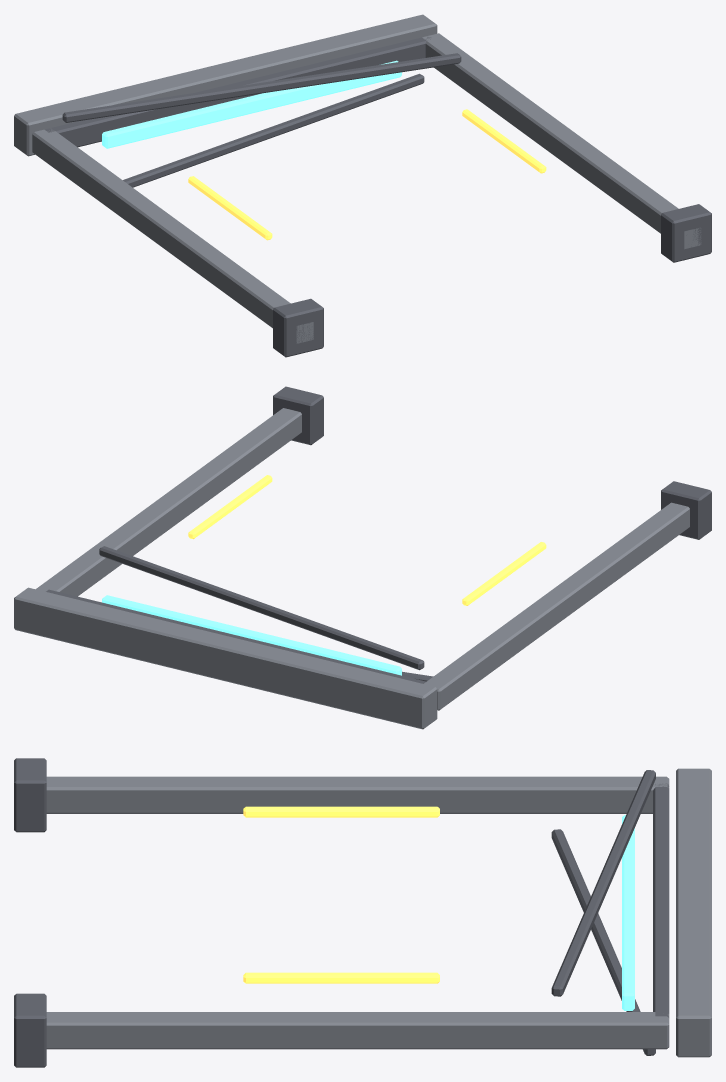
File: rib_arch.glb
3 renders of one model, top to bottom at view 1: azimuth 30°, elevation 25°; view 2: azimuth 150°, elevation 25°; view 3: azimuth 270°, elevation 25°, orthographic. The views are drawn at different scales.
Visible parts, largest first — view 1: RibArch; view 2: RibArch; view 3: RibArch.
Boxes of the visible parts, box(x1,y1,x2,y2) form: RibArch: box(14, 14, 711, 357); RibArch: box(14, 386, 711, 729); RibArch: box(14, 758, 711, 1067).
Size of the model in its own units: 3.75 by 0.47 by 4.26.
